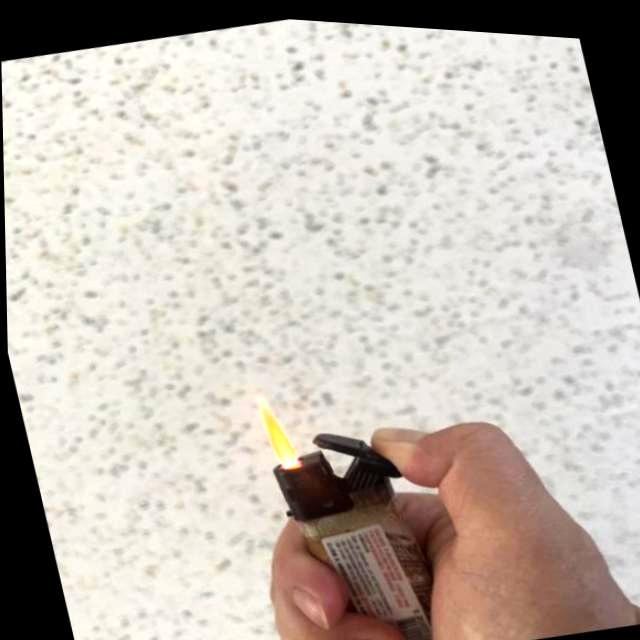fire: (250, 384, 298, 460)
